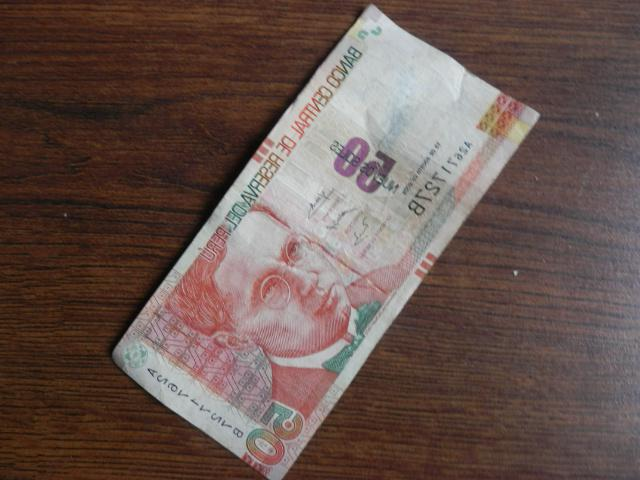B50: (112, 5, 539, 478)
